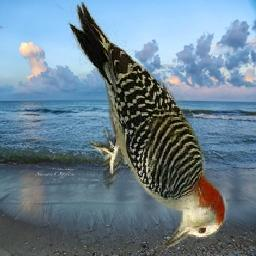Woodpecker: (68, 3, 231, 248)
